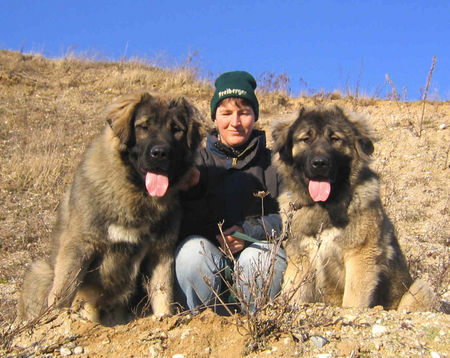cau_ovcharka: (15, 89, 209, 325), (270, 102, 412, 311)
human_face: (213, 100, 254, 144)
person: (175, 70, 287, 314)
